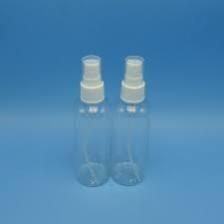plastic: (73, 55, 113, 187), (113, 57, 149, 186)
